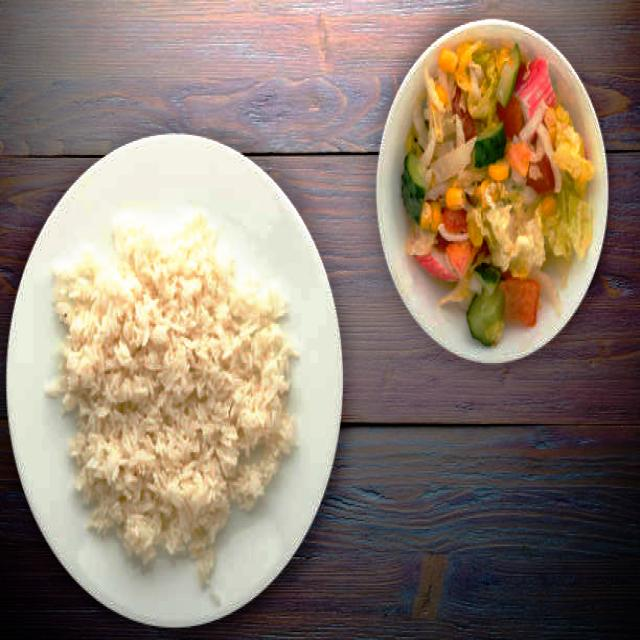rice: (45, 208, 300, 593)
